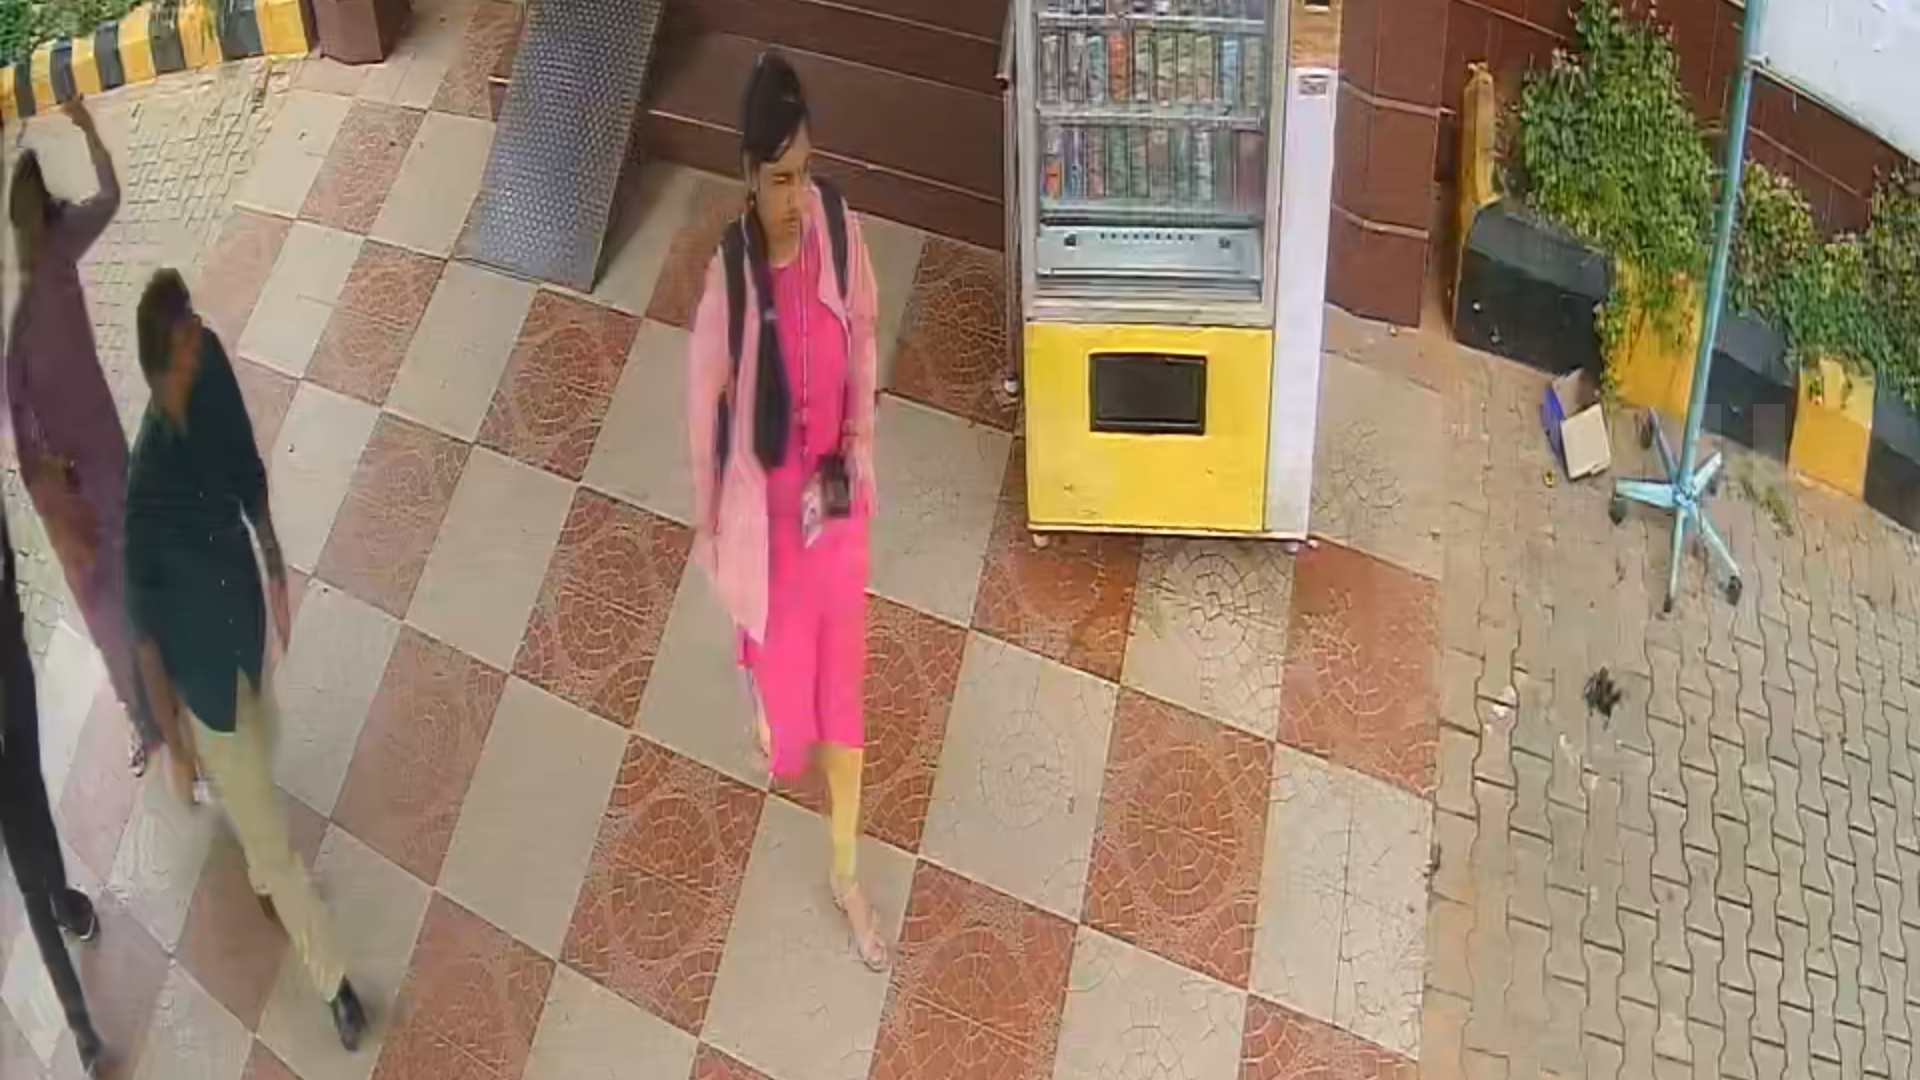intruder: (98, 278, 433, 1046)
not intruder: (673, 40, 894, 990)
